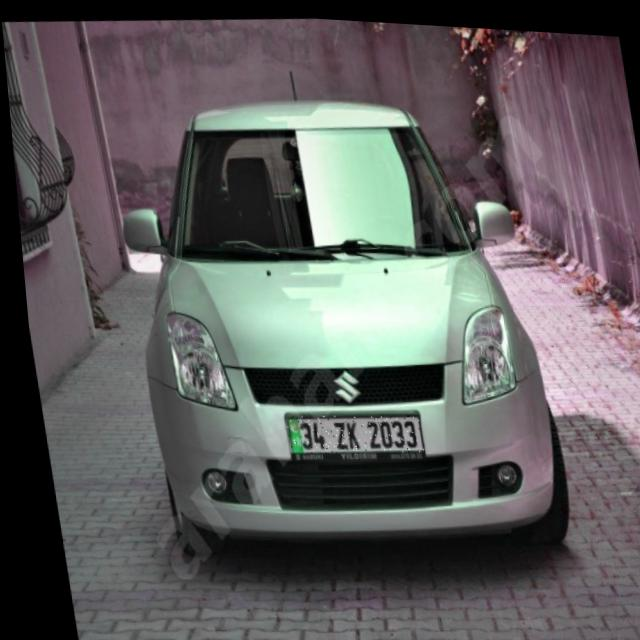license_plate: (277, 404, 417, 457)
